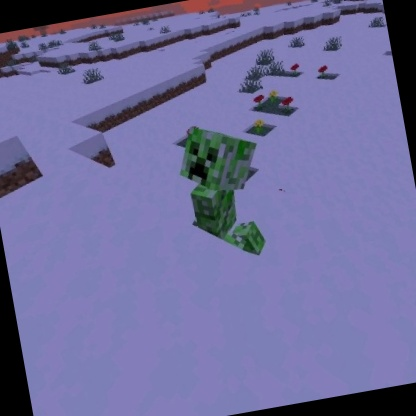creeper: (168, 114, 278, 267)
